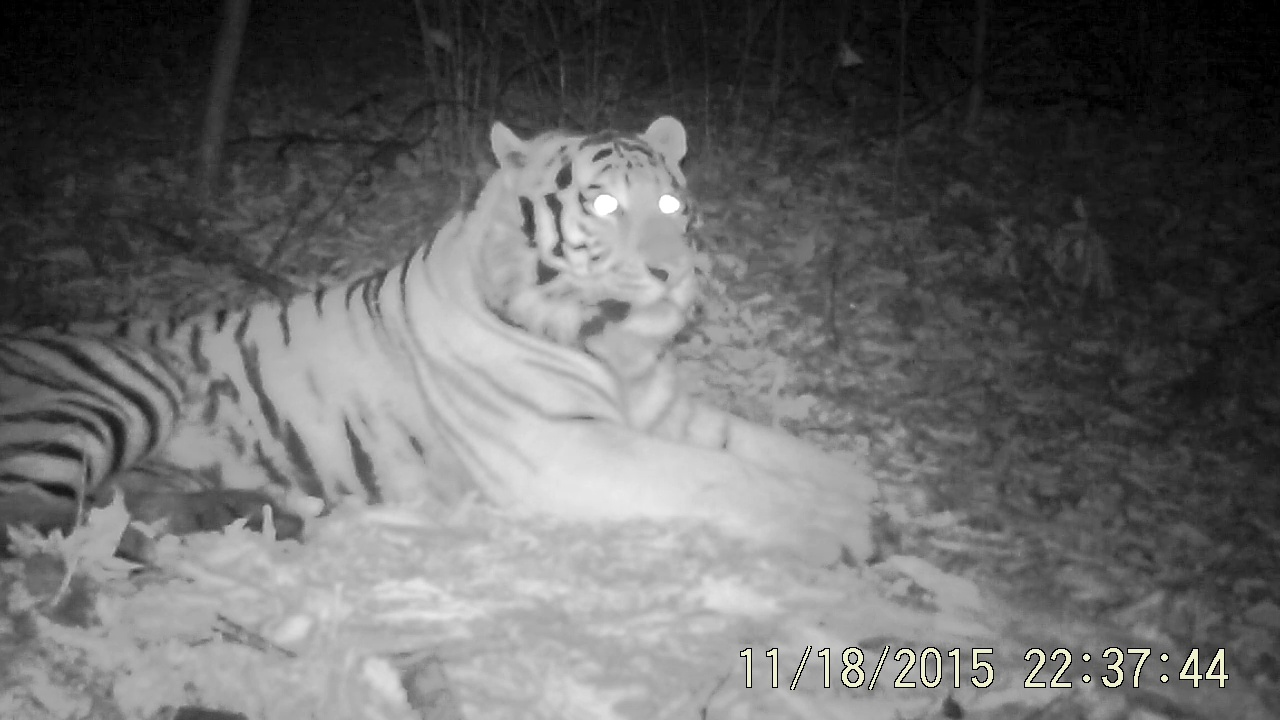Tiger: (4, 37, 967, 624)
